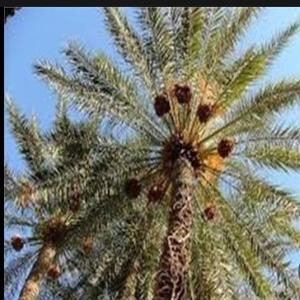palm tree: (5, 5, 299, 299)
